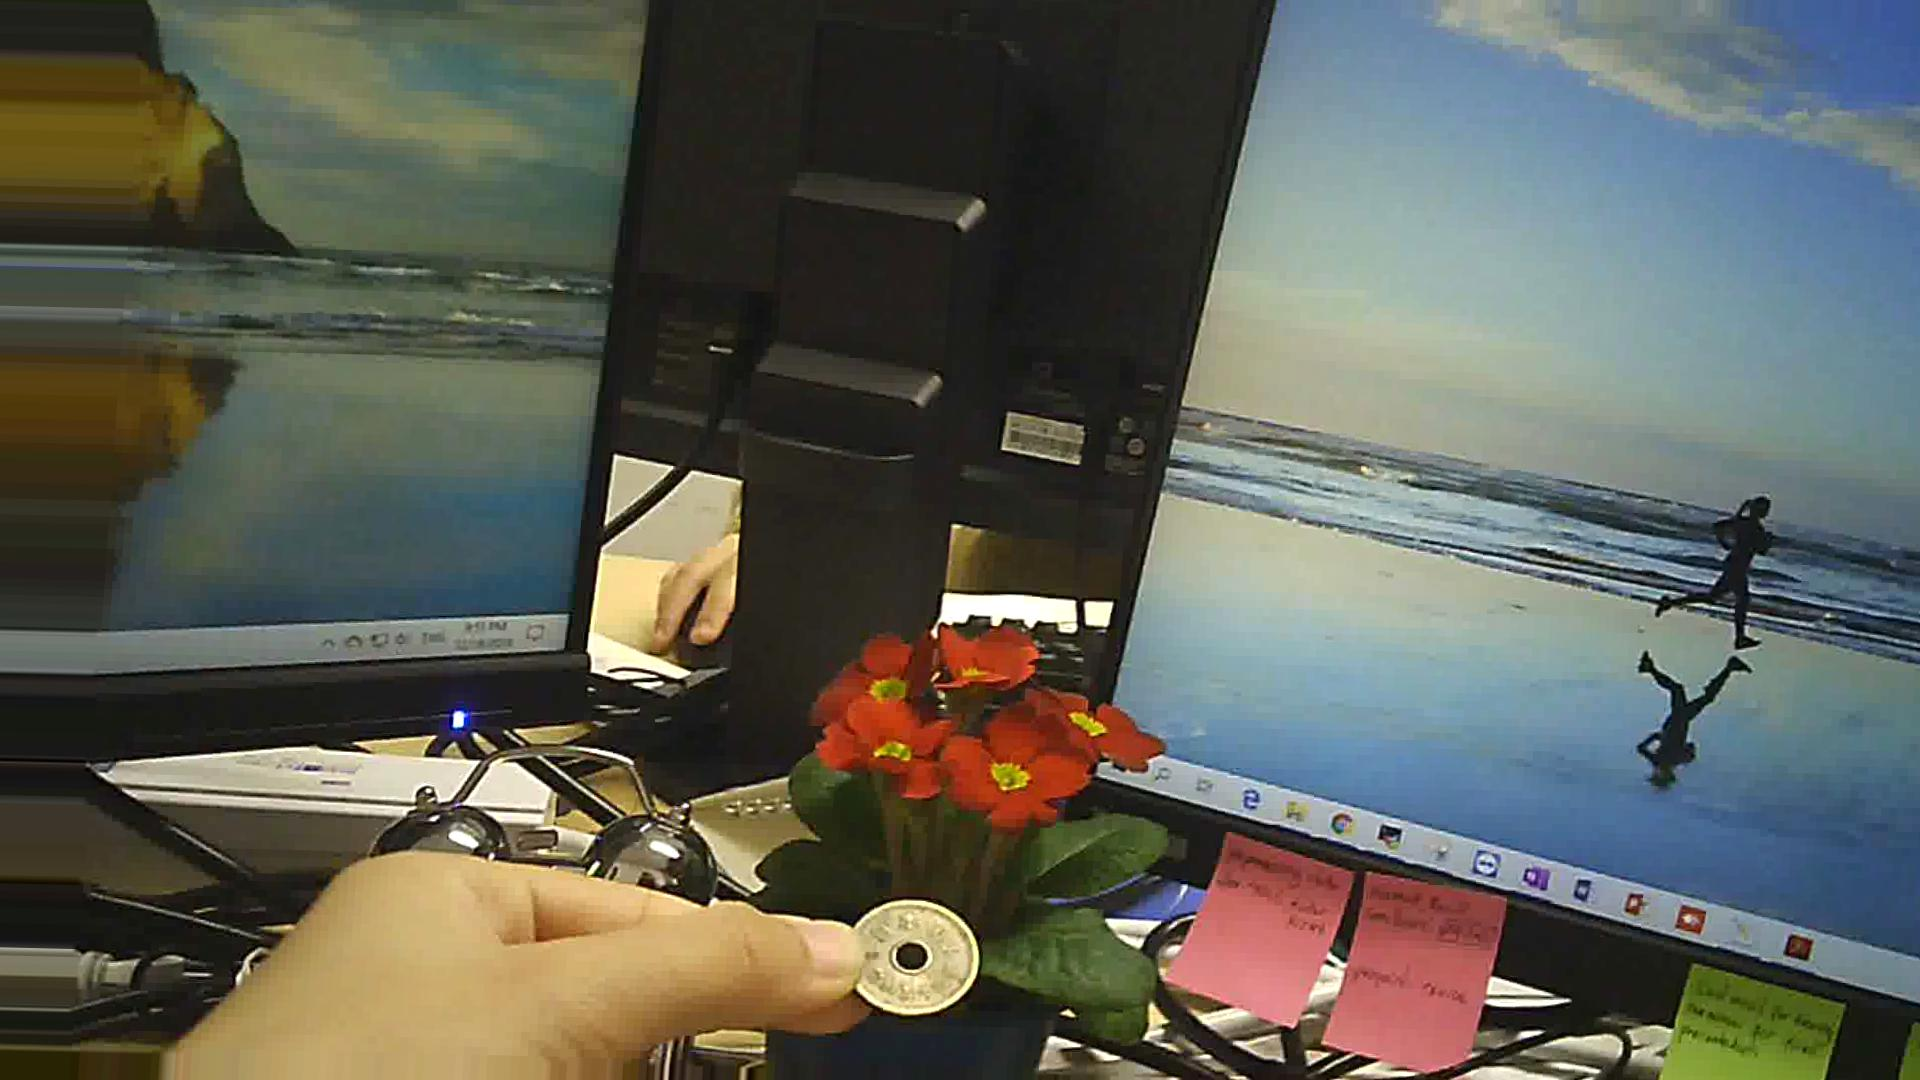5 Yen: (833, 895, 1000, 1034)
